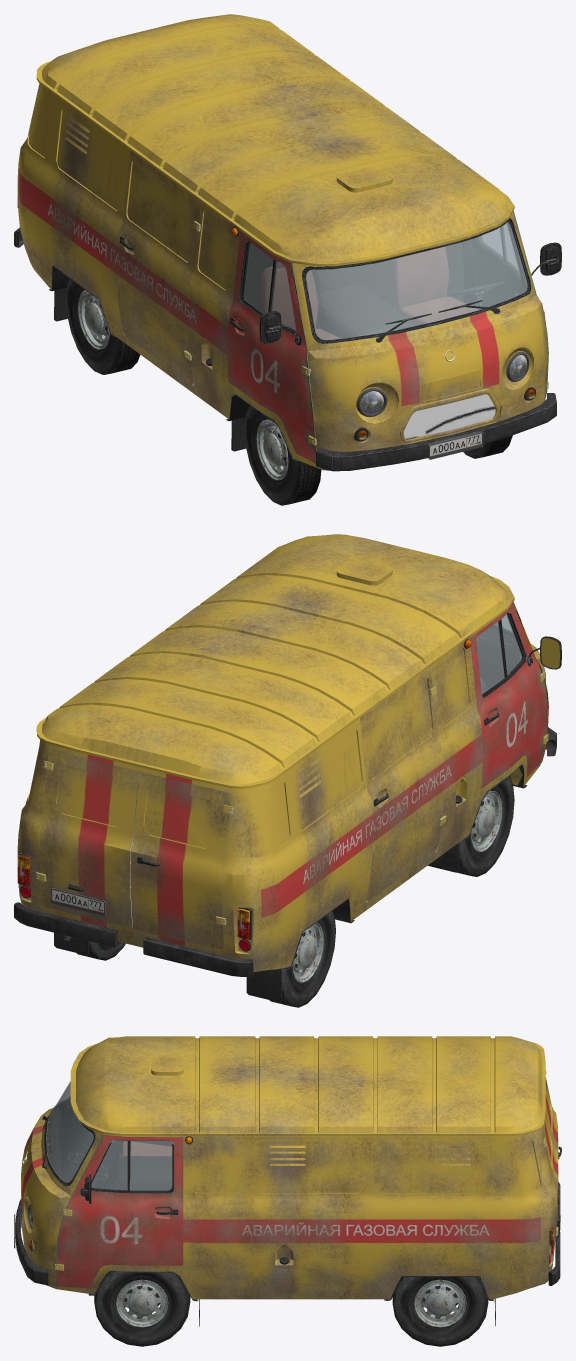
The model's file is uaz_gas.gltf.
The picture shows the model from 3 angles, top to bottom: view 1: azimuth 30°, elevation 25°; view 2: azimuth 150°, elevation 25°; view 3: azimuth 270°, elevation 25°; orthographic projection. The views are drawn at different scales.
Parts seen in each view (by area): view 1: Body, Wheel_FR, Wheel_RR; view 2: Body, Wheel_FR, Wheel_RR; view 3: Body, Wheel_FL, Wheel_RL.
Boxes of the visible parts, left/top/right/bottom form: Body: left=14, top=14, right=561, bottom=471; Wheel_FR: left=244, top=405, right=321, bottom=505; Wheel_RR: left=65, top=278, right=140, bottom=374; Body: left=14, top=534, right=561, bottom=1002; Wheel_FR: left=457, top=776, right=514, bottom=876; Wheel_RR: left=269, top=911, right=335, bottom=1007; Body: left=14, top=1036, right=561, bottom=1326; Wheel_FL: left=94, top=1271, right=190, bottom=1346; Wheel_RL: left=392, top=1277, right=488, bottom=1346.
Size of the model in its own units: 2.31 by 2.11 by 4.36.
Materials: 4 (3 with a texture image).
